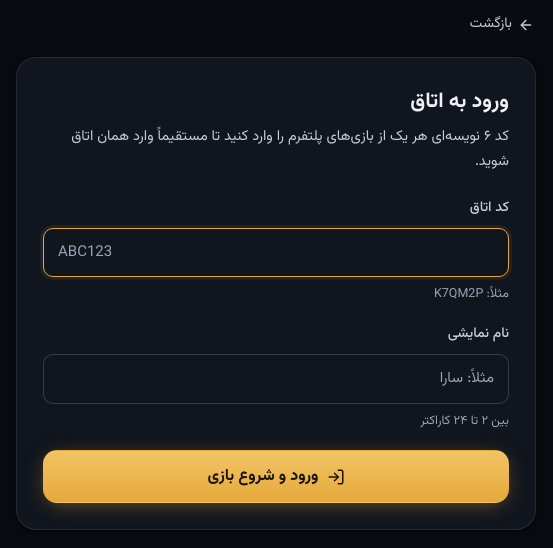
Test: JoinRoomPage › shows a validation error for an invalid display name
The image size is (553, 548).
Type "ABC234" into the field labelled "کد اتاق" at (276, 252), box top-left (43, 228), bottom-right (509, 277)
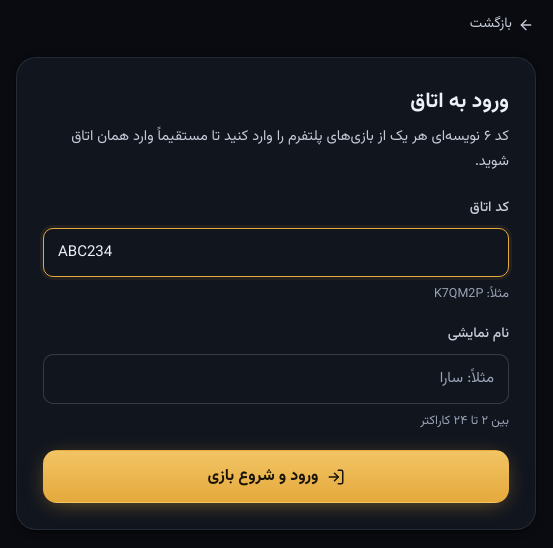
Type "x" into the field labelled "نام نمایشی" at (276, 379), box top-left (43, 354), bottom-right (509, 404)
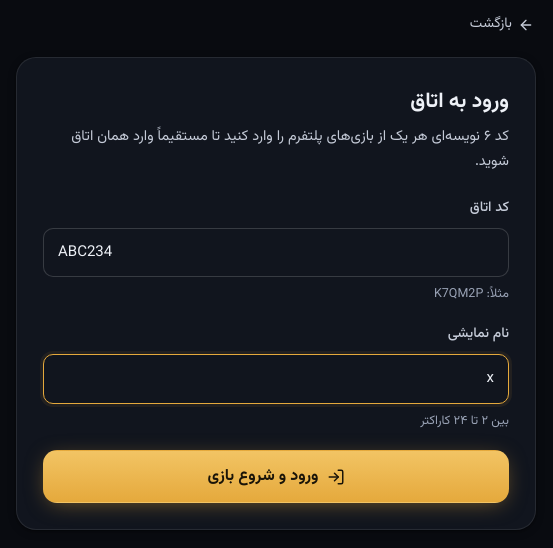
Click the button "ورود و شروع بازی" at (276, 477), box top-left (43, 450), bottom-right (509, 504)
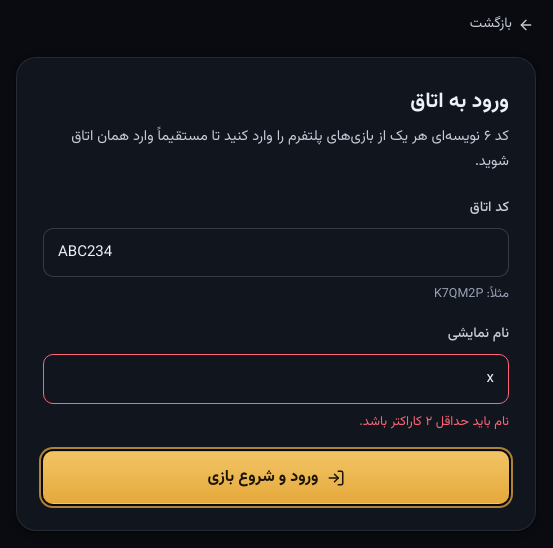
Check: the text "نام باید حداقل ۲ کاراکتر باشد." is shown, box top-left (359, 412), bottom-right (509, 432)
